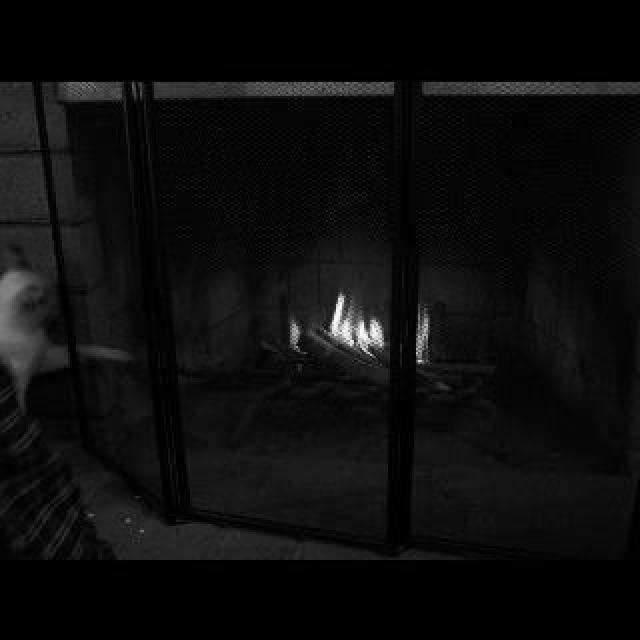Fire: (282, 282, 438, 362)
